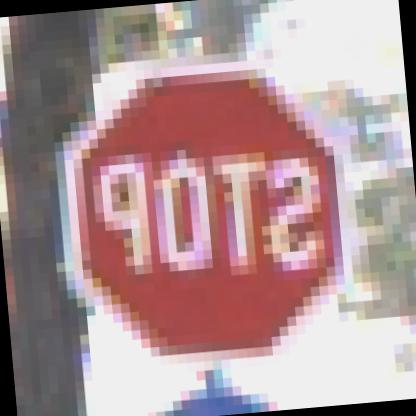stop: (32, 31, 380, 392)
